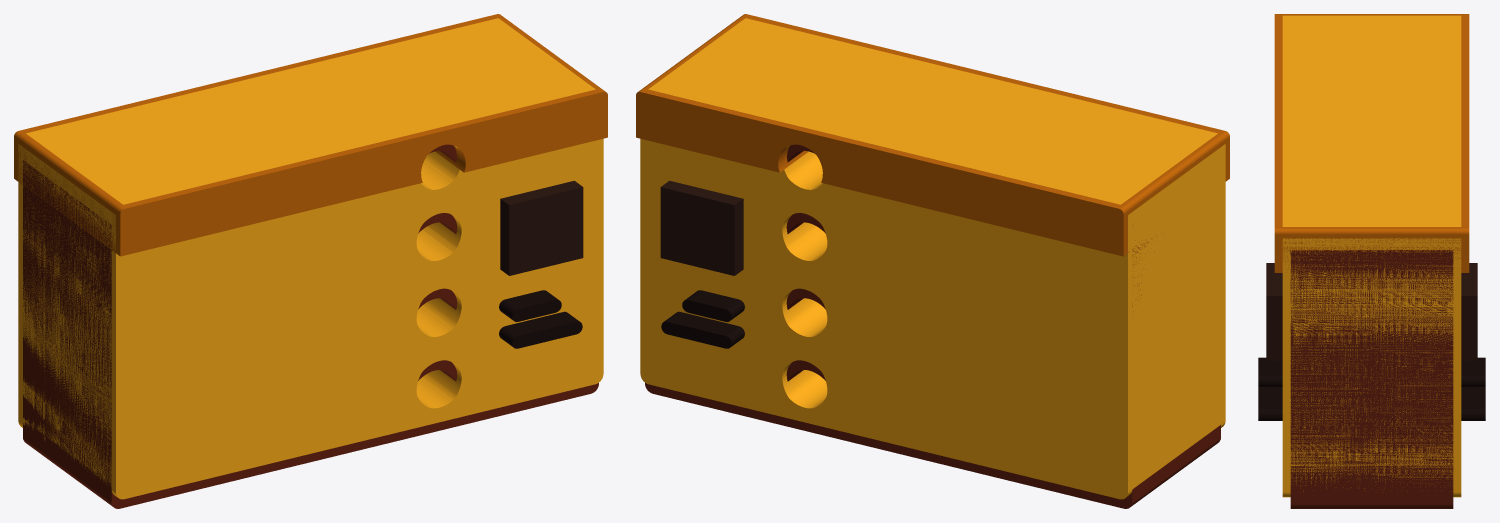
3 renders of one model, left to right at view 1: azimuth 30°, elevation 25°; view 2: azimuth 150°, elevation 25°; view 3: azimuth 270°, elevation 25°, orthographic. The views are drawn at different scales.
Visible parts, largest first — view 1: U+1F3AB_layer01_obj00, U+1F3AB_layer02_obj00, U+1F3AB_layer00_obj00, U+1F3AB_layer03_obj00, U+1F3AB_layer04_obj00, U+1F3AB_layer04_obj01; view 2: U+1F3AB_layer01_obj00, U+1F3AB_layer02_obj00, U+1F3AB_layer00_obj00, U+1F3AB_layer03_obj00, U+1F3AB_layer04_obj00, U+1F3AB_layer04_obj01; view 3: U+1F3AB_layer01_obj00, U+1F3AB_layer00_obj00, U+1F3AB_layer02_obj00, U+1F3AB_layer03_obj00, U+1F3AB_layer04_obj00, U+1F3AB_layer04_obj01.
Boxes of the visible parts, x1,y1,x2,y2 form: U+1F3AB_layer01_obj00: (18, 18, 603, 499); U+1F3AB_layer02_obj00: (14, 14, 607, 256); U+1F3AB_layer00_obj00: (23, 144, 598, 508); U+1F3AB_layer03_obj00: (500, 180, 583, 275); U+1F3AB_layer04_obj00: (499, 311, 582, 348); U+1F3AB_layer04_obj01: (499, 290, 561, 321); U+1F3AB_layer01_obj00: (640, 18, 1225, 499); U+1F3AB_layer02_obj00: (636, 14, 1229, 256); U+1F3AB_layer00_obj00: (645, 144, 1220, 508); U+1F3AB_layer03_obj00: (660, 180, 743, 275); U+1F3AB_layer04_obj00: (661, 311, 744, 348); U+1F3AB_layer04_obj01: (682, 290, 744, 321); U+1F3AB_layer01_obj00: (1282, 15, 1461, 497); U+1F3AB_layer00_obj00: (1290, 250, 1453, 508); U+1F3AB_layer02_obj00: (1274, 14, 1469, 272); U+1F3AB_layer03_obj00: (1266, 263, 1477, 360); U+1F3AB_layer04_obj00: (1258, 387, 1485, 420); U+1F3AB_layer04_obj01: (1258, 357, 1485, 386).
Bounding box in the file's own units: 0.3175 × 0.1913 × 0.14.
